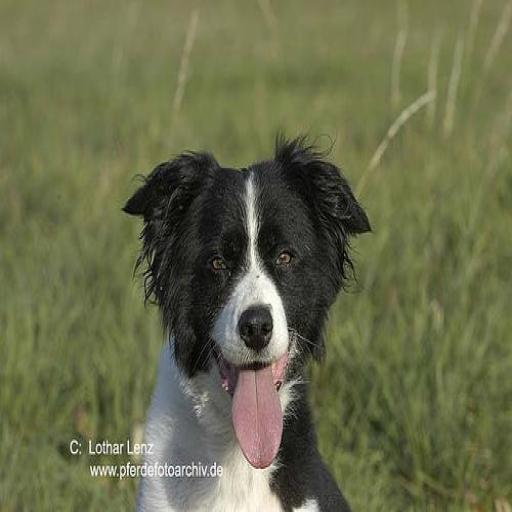dog_face: (120, 143, 365, 468)
